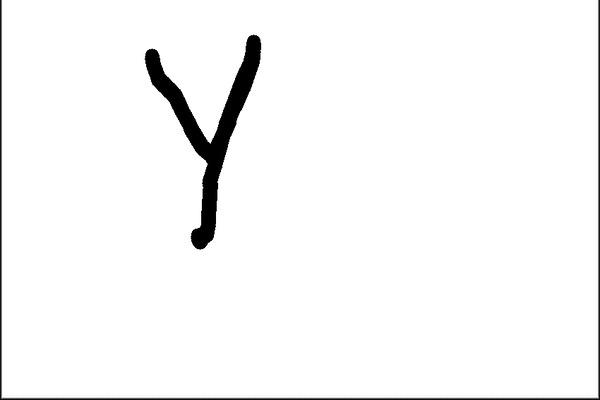Y: (139, 26, 277, 254)
